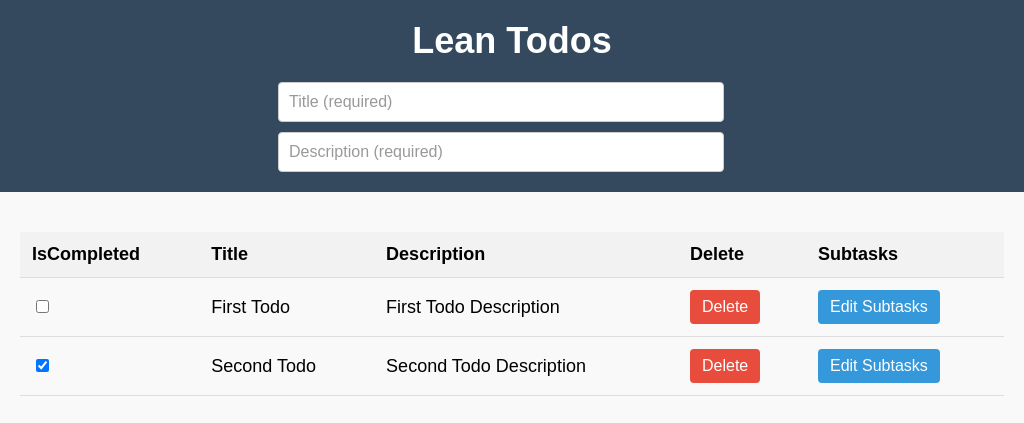
Test: Todos › chahges title of a task
This screenshot has width=1024, height=423.
Check: the row with test id "tasks" shows "First Todo", box [20,278,1004,337]
Click the cell with test id "taskTitle" showing "First Todo" at point(287, 308), box [199,278,374,337]
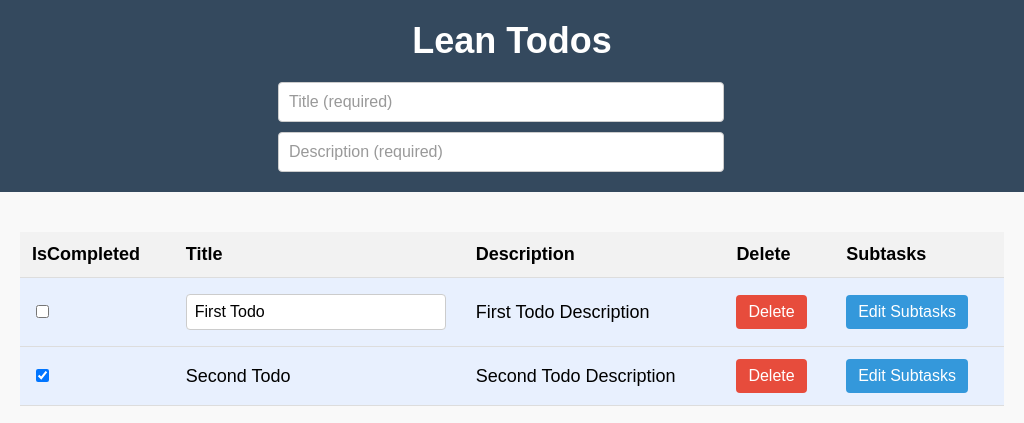
Type "Updated Title" into the field with test id "editTitle" at point(316, 312), box [186,294,446,330]
Then press Enter
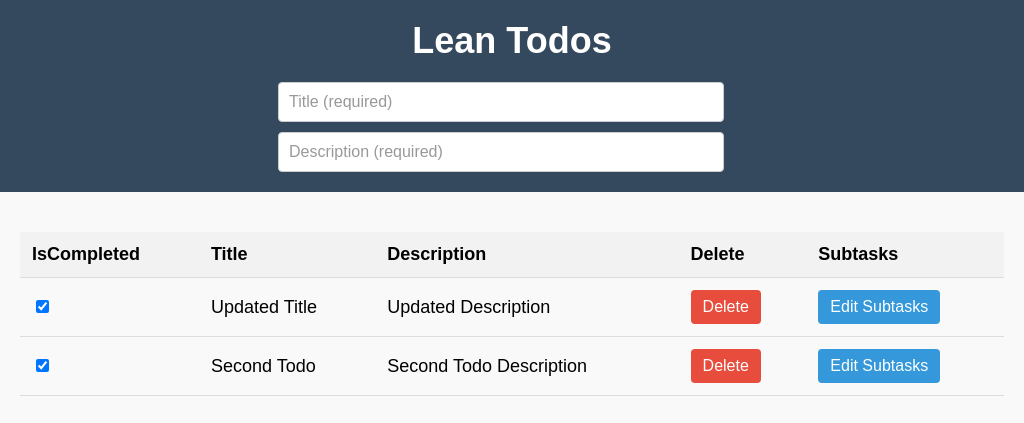
Check: the row with test id "tasks" shows "Updated Title", box [20,278,1004,337]
